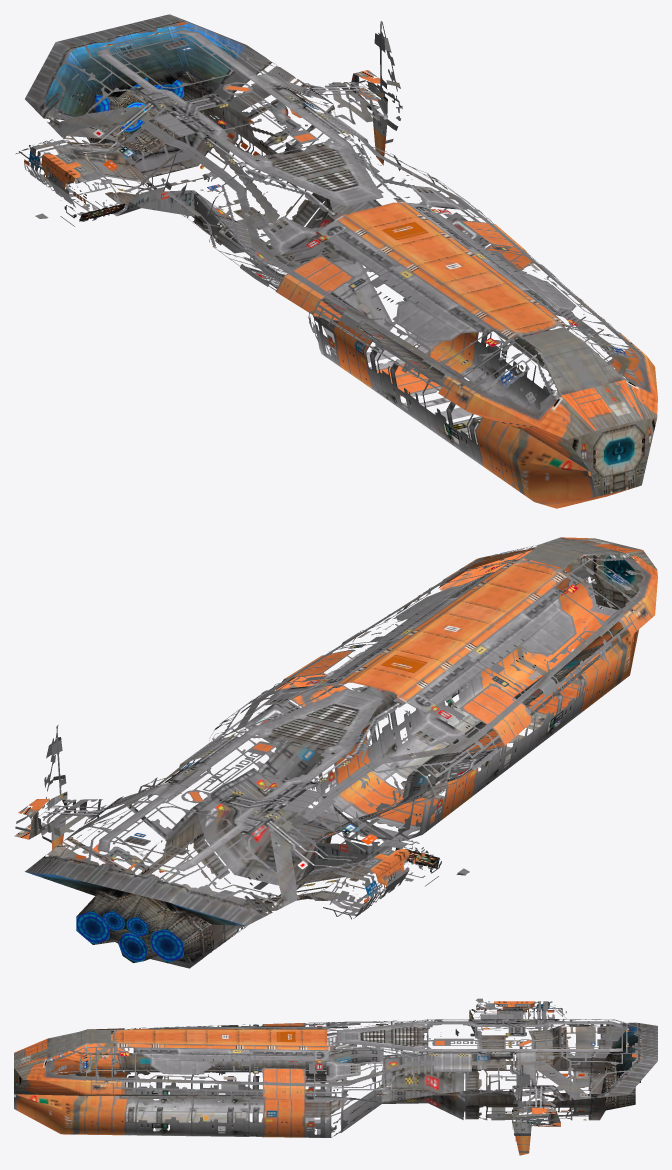
The picture shows the model from 3 angles, top to bottom: view 1: azimuth 30°, elevation 25°; view 2: azimuth 150°, elevation 25°; view 3: azimuth 270°, elevation 25°; orthographic projection. The views are drawn at different scales.
Parts seen in each view (by area): view 1: FrontUV, Engine, Badge0_MAT; view 2: FrontUV, Engine, Badge0_MAT; view 3: FrontUV, Badge0_MAT, Engine.
Boxes of the visible parts, bbox=[...] form: FrontUV: bbox=[15, 14, 657, 508]; Engine: bbox=[44, 21, 244, 132]; Badge0_MAT: bbox=[522, 327, 624, 395]; FrontUV: bbox=[14, 537, 657, 968]; Engine: bbox=[26, 872, 245, 962]; Badge0_MAT: bbox=[522, 537, 623, 568]; FrontUV: bbox=[14, 998, 657, 1155]; Badge0_MAT: bbox=[47, 1030, 111, 1058]; Engine: bbox=[606, 1026, 638, 1077].
Bounding box in the file's own units: 66.37 × 29.25 × 147.
